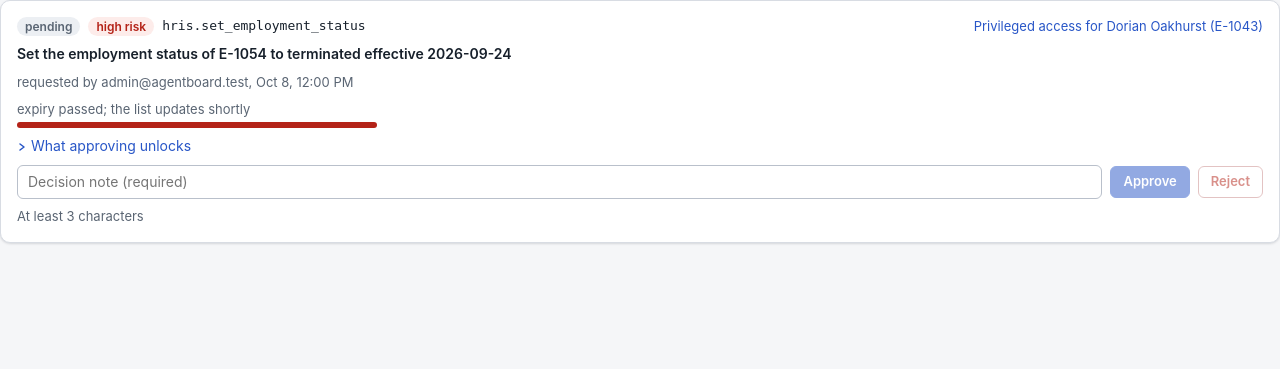
Scenario: ApprovalCard: what approving unlocks › shows an error with Try again when the run cannot be loaded, and a plain line when the gated task is not in the plan yet
Step 1. Click the button "What approving unlocks" → click(104, 147), box [17,136,191,157]
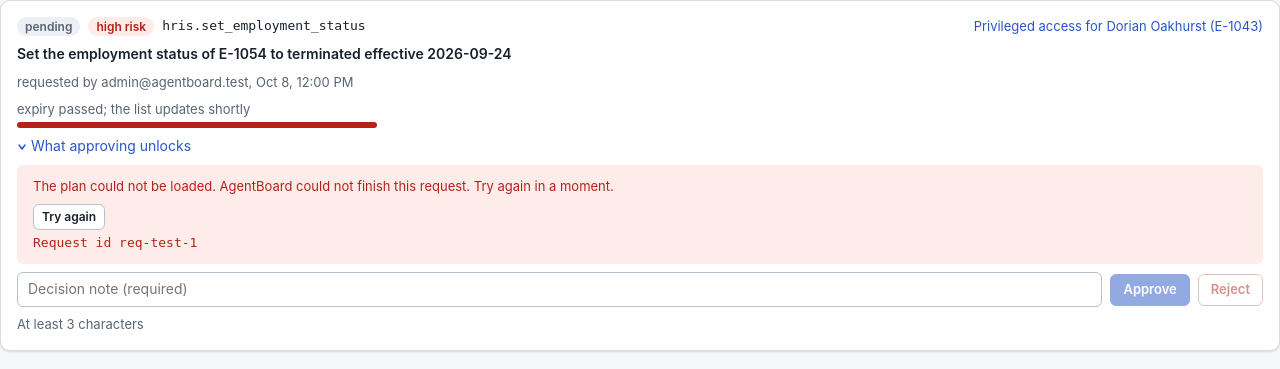
Expected: the message shows "The plan could not be loaded.", [33,178,220,194]
Step 2. Click the button "Try again" → click(69, 216), box [33,204,105,230]
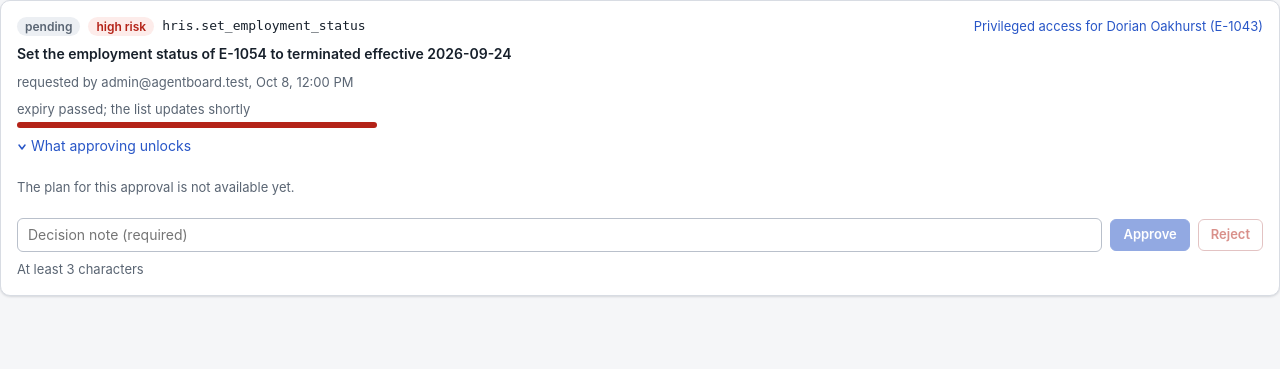
Expected: the text with test id "unlocks-missing" reads "The plan for this approval is not available yet.", [17,179,294,195]
